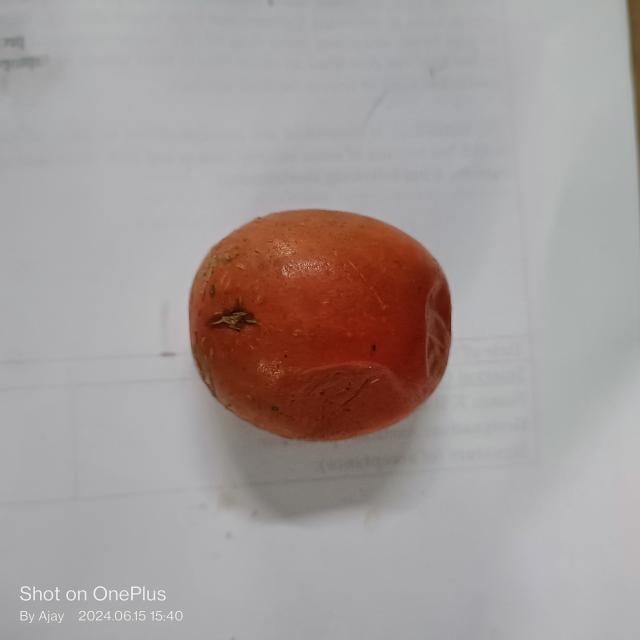Botrytis: (202, 302, 252, 332)
